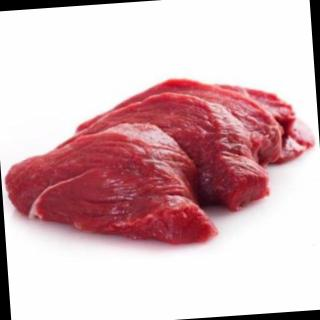Daging Sapi: (1, 69, 320, 257), (5, 124, 220, 257)
